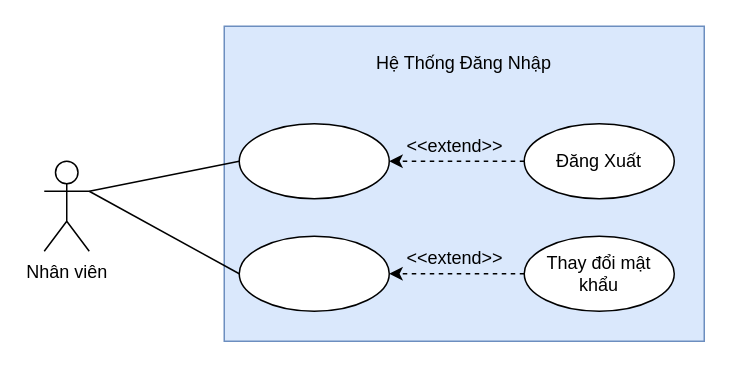
Image size: 731x368. Some labels were removed from this diagram. Each missing label, with the box of its shape:
Quên mật khẩu: (238, 235, 389, 311)
Đăng Nhập: (238, 122, 389, 199)
